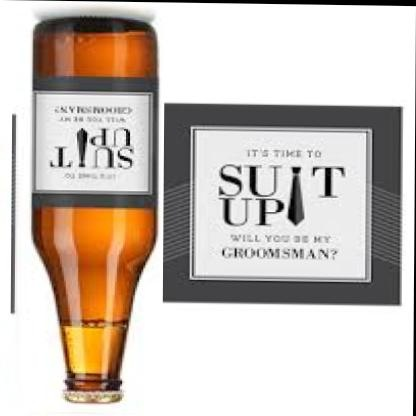trash: (33, 17, 156, 402)
